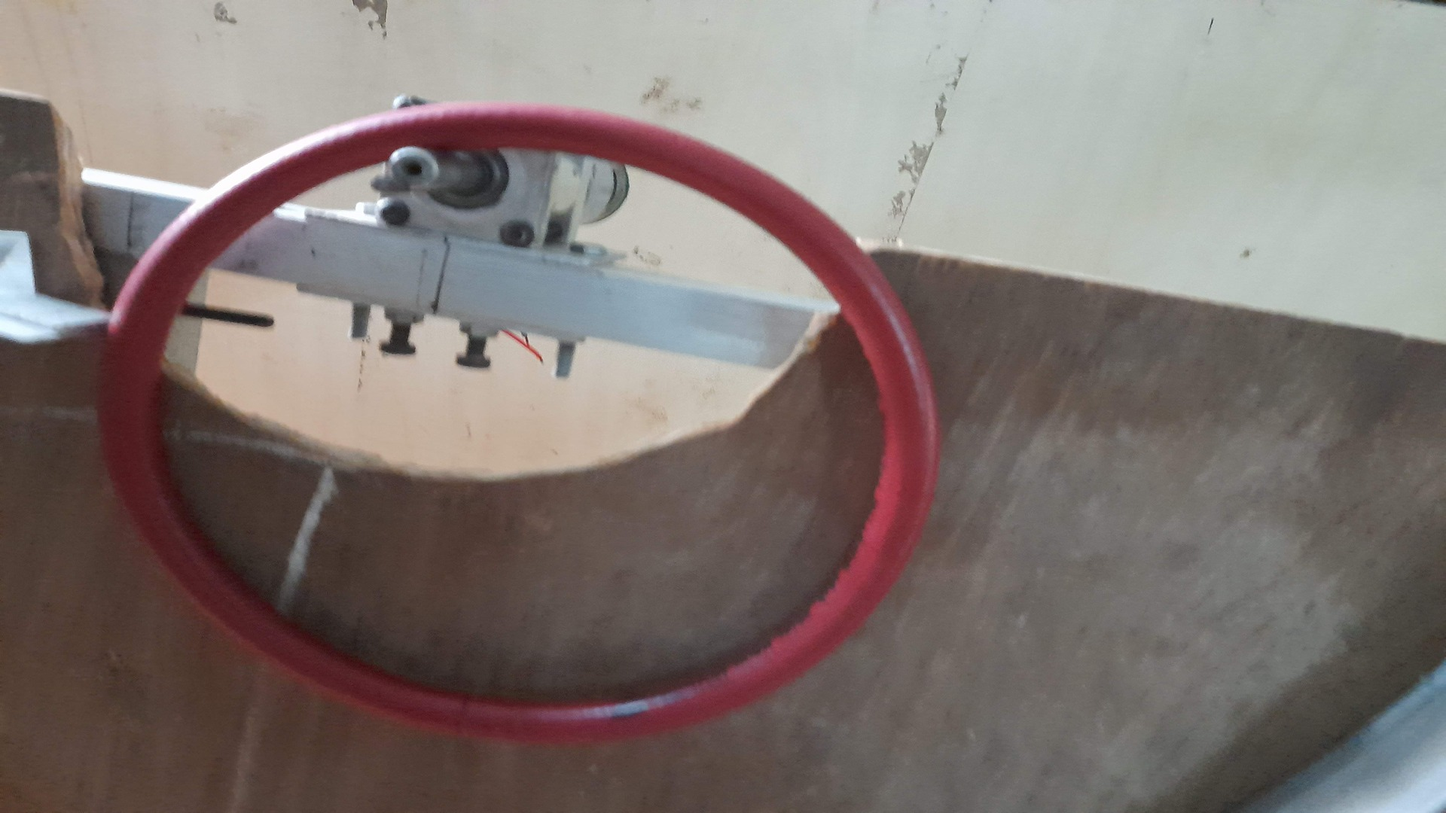Red ring: (108, 107, 935, 737)
